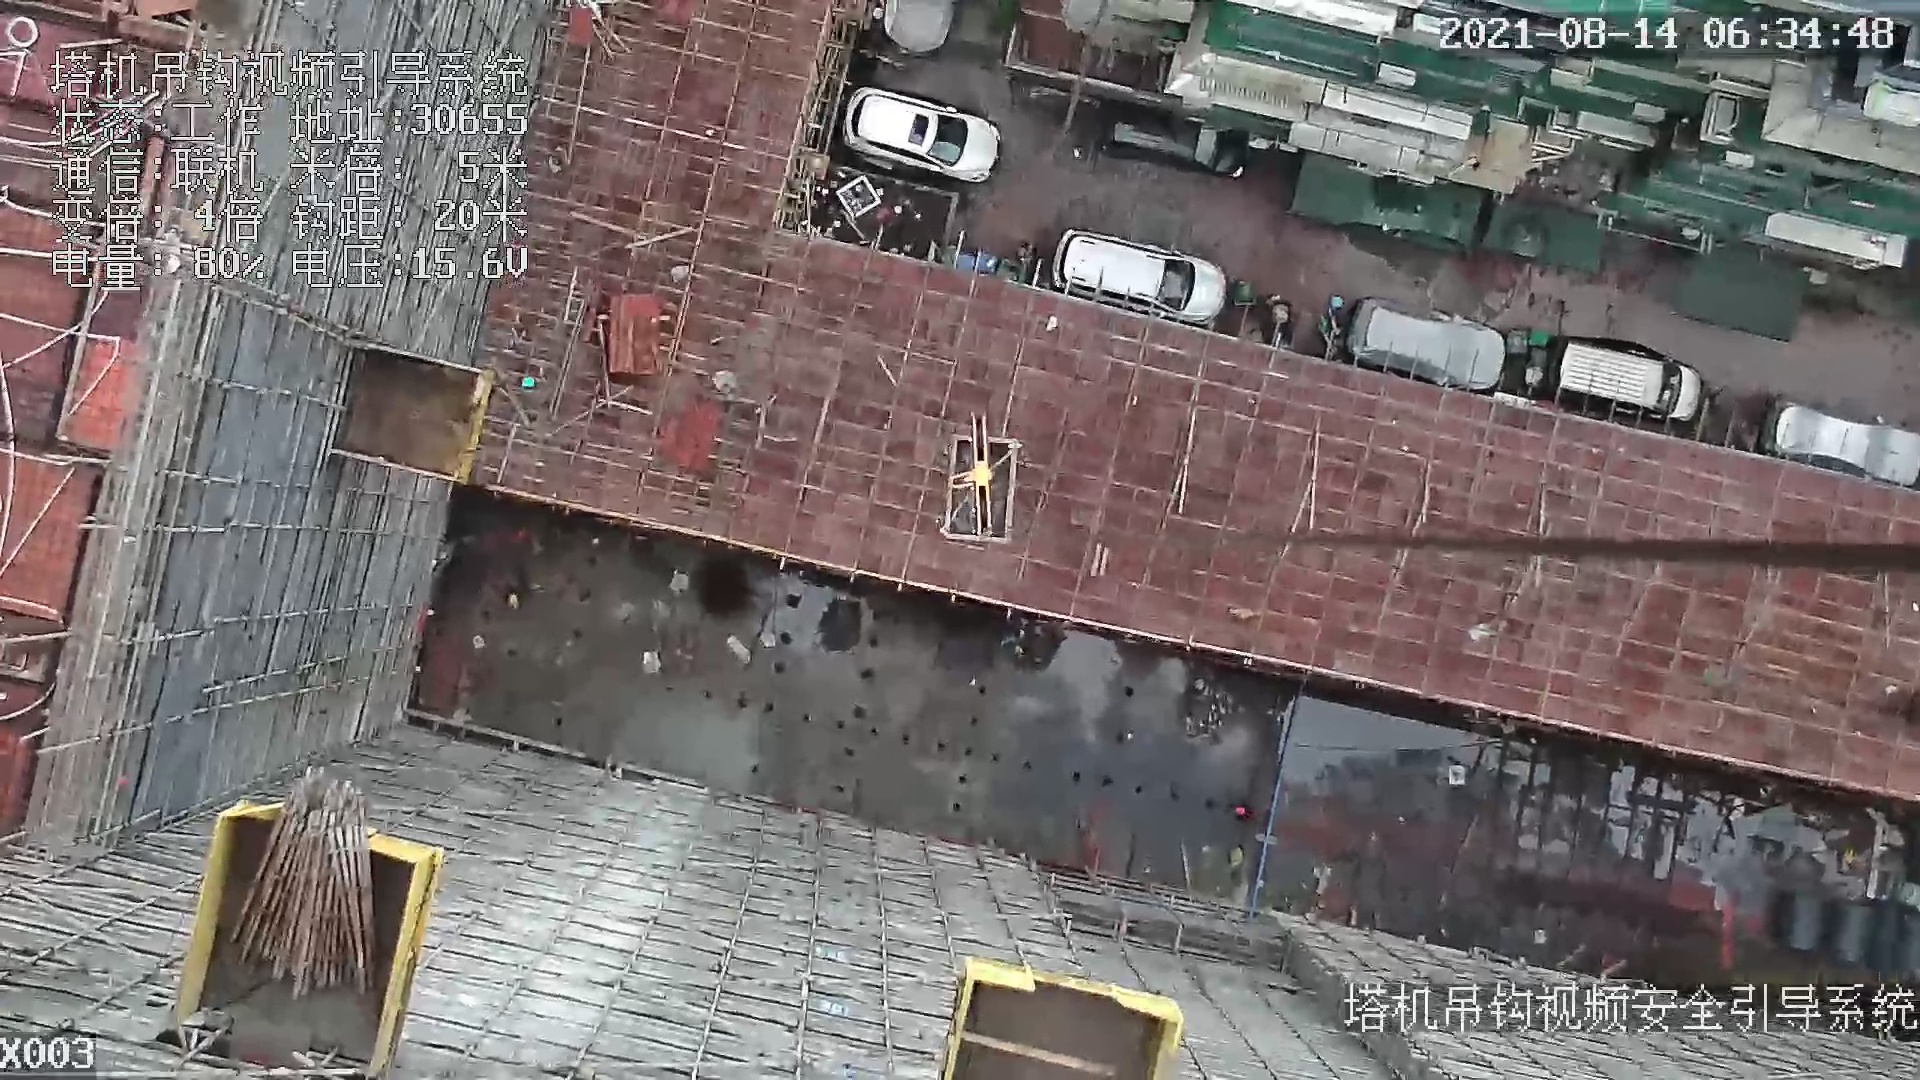hook: (955, 413, 992, 542)
hopper: (938, 426, 1033, 568)
scaffold: (243, 769, 396, 1014)
